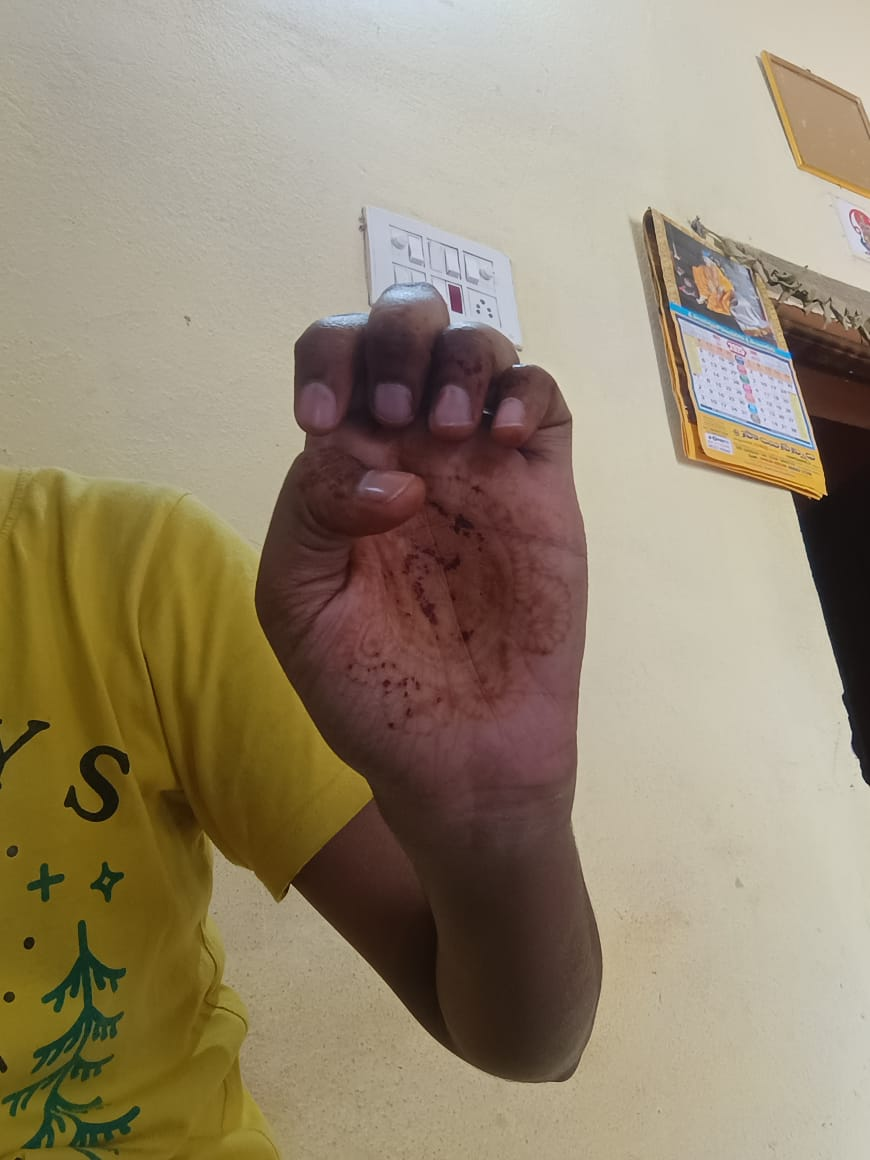E: (252, 280, 590, 775)
